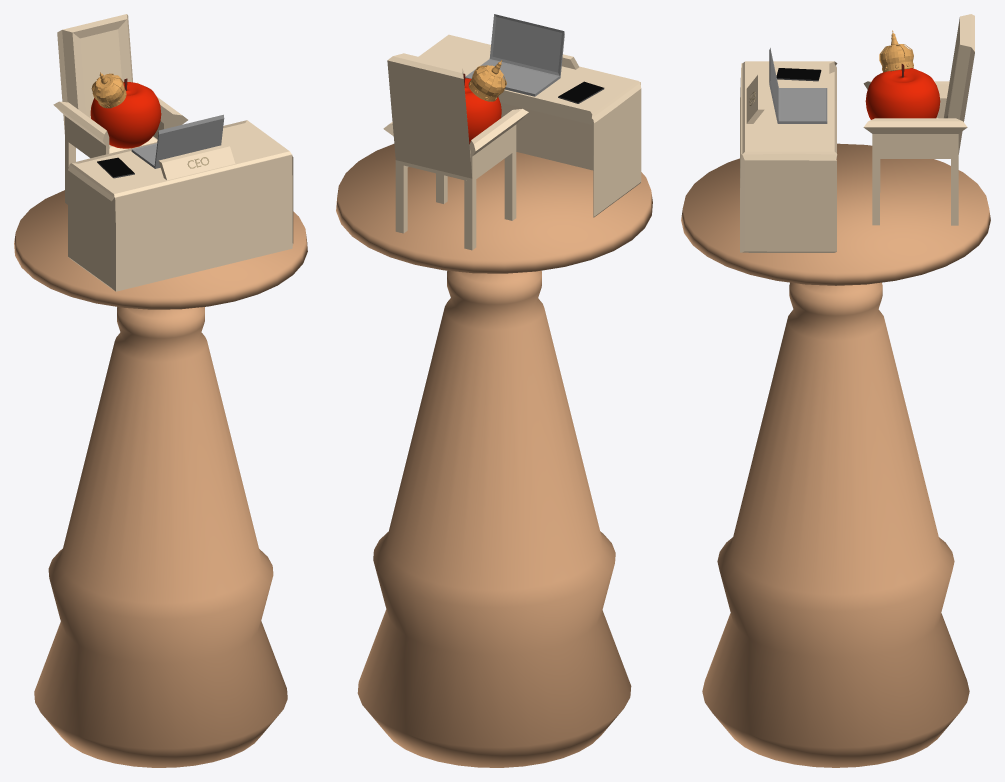
Rendered from CHESSKINGAPPLEFINAL--fast-normal.glb.
The picture shows the model from 3 angles, left to right: view 1: azimuth 30°, elevation 25°; view 2: azimuth 150°, elevation 25°; view 3: azimuth 270°, elevation 25°; orthographic projection. The views are drawn at different scales.
Size of the model in its own units: 0.8743 by 2.15 by 0.8743.
